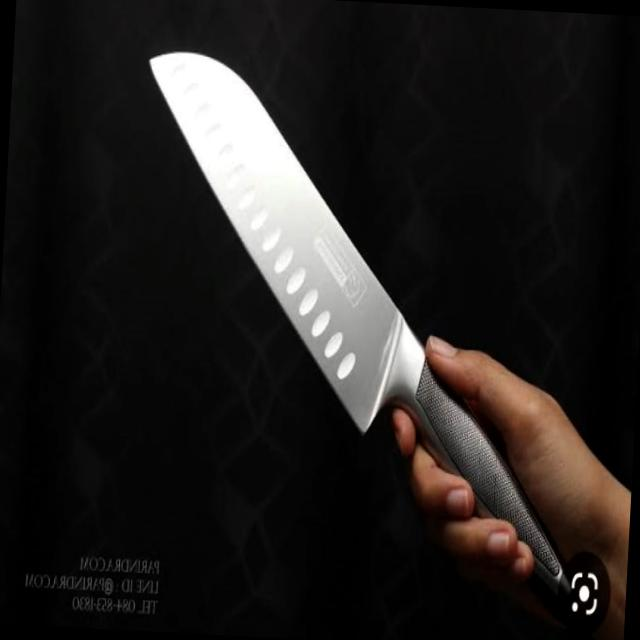knife: (125, 48, 568, 557)
